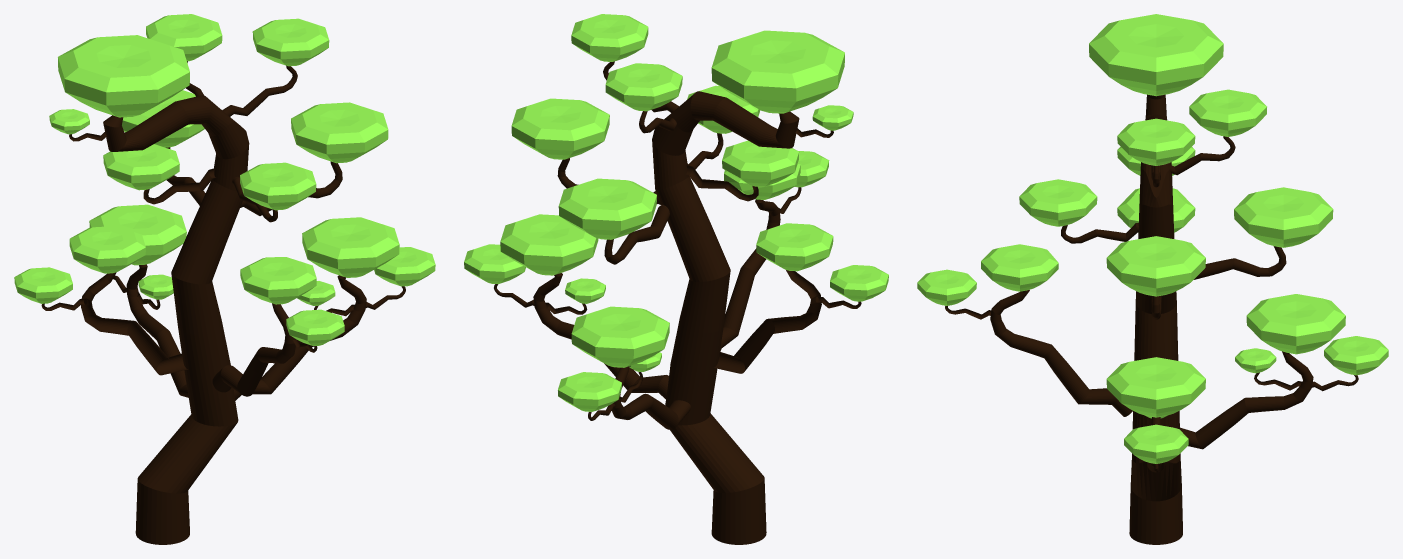
The model's file is TokyoTree.obj.
3 renders of one model, left to right at view 1: azimuth 30°, elevation 25°; view 2: azimuth 150°, elevation 25°; view 3: azimuth 270°, elevation 25°, orthographic. The views are drawn at different scales.
Visible parts, largest first — view 1: Sphere.001, Cylinder.001; view 2: Sphere.001, Cylinder.001; view 3: Sphere.001, Cylinder.001.
Part boxes in pixels (<box>): Sphere.001: <box>14,14,435,345</box>; Cylinder.001: <box>41,61,405,544</box>; Sphere.001: <box>464,14,888,411</box>; Cylinder.001: <box>494,61,861,544</box>; Sphere.001: <box>917,14,1388,463</box>; Cylinder.001: <box>945,94,1358,544</box>.
Bounding box in the file's own units: 17.57 × 19.69 × 17.57.
